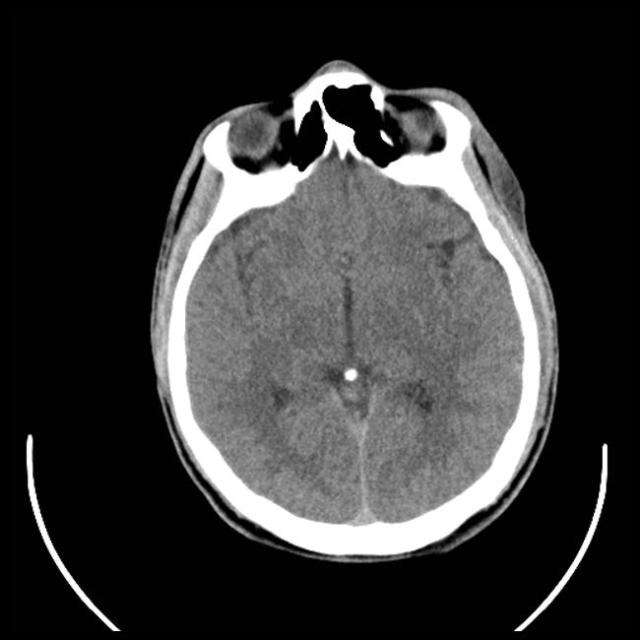lesion: (147, 59, 561, 560)
